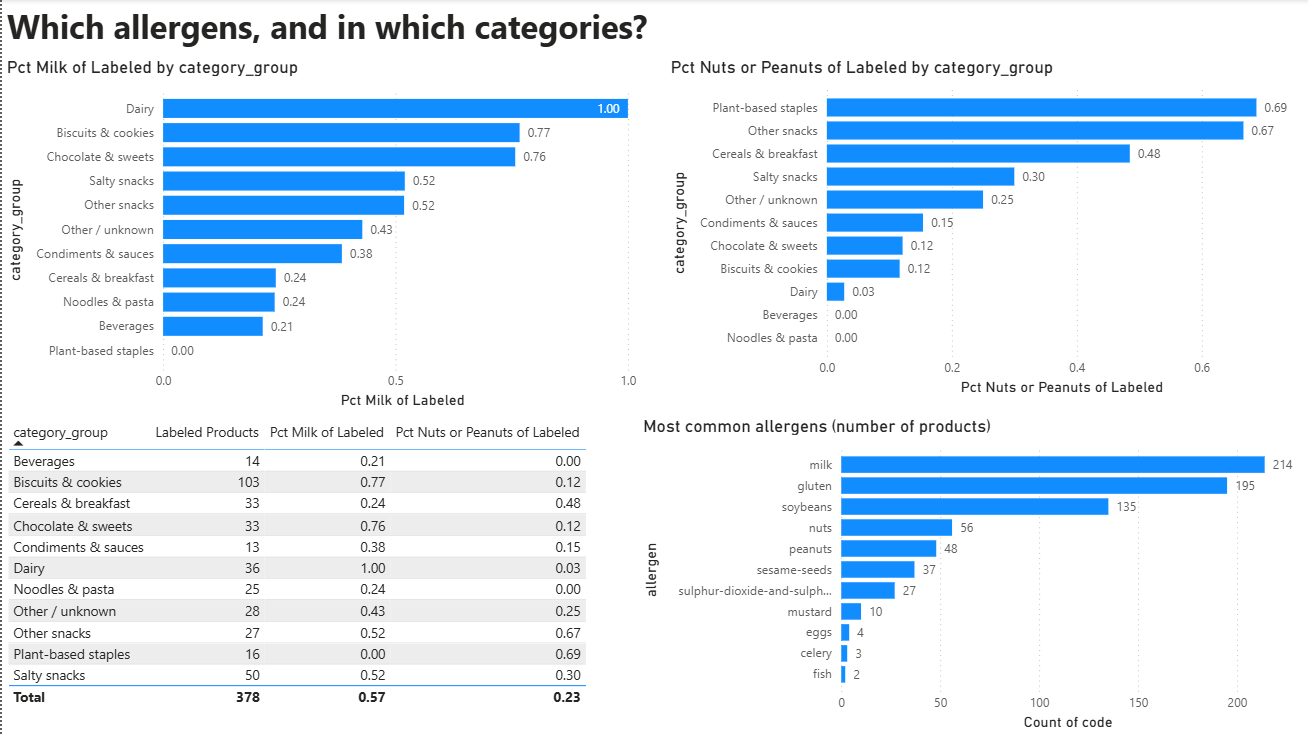

This screenshot's page, from the dashboard's own definition file:
{"tool":"powerbi","page":{"name":"Page 2","canvas":[1280,720],"ordinal":1},"visuals":[{"type":"barChart","fields":{"Category":["products_clean.category_group"],"Y":["products_clean.Pct Milk of Labeled"]},"box":[0,56.3,639.5,349.7],"z":0},{"type":"barChart","fields":{"Category":["products_clean.category_group"],"Y":["products_clean.Pct Nuts or Peanuts of Labeled"]},"box":[649.3,56.3,631,336.3],"z":1000},{"type":"tableEx","fields":{"Values":["products_clean.category_group","products_clean.Labeled Products","products_clean.Pct Milk of Labeled","products_clean.Pct Nuts or Peanuts of Labeled"]},"box":[0,407.2,622.4,311.8],"z":2000},{"type":"textbox","box":[0,0,649.3,56.3],"z":3000},{"type":"barChart","title":"Most common allergens (number of products)","fields":{"Y":["Count(allergens_long.code)"],"Category":["allergens_long.allergen"]},"box":[622.4,407.2,657.9,313],"z":3001}]}

Visuals, with their boxes in screenshot pixels (x1, y1, x2, y2), scaled from the page's 1280x720 canvas onto the 1308x735 screenshot:
barChart - products_clean.category_group x products_clean.Pct Milk of Labeled: left=0, top=57, right=653, bottom=414
barChart - products_clean.category_group x products_clean.Pct Nuts or Peanuts of Labeled: left=664, top=57, right=1307, bottom=401
tableEx - products_clean.category_group x products_clean.Labeled Products: left=0, top=416, right=636, bottom=734
textbox: left=0, top=0, right=664, bottom=57
"Most common allergens (number of products)" barChart: left=636, top=416, right=1307, bottom=734
